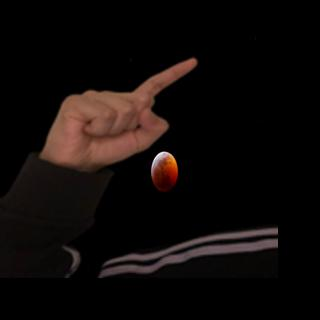WHY: (38, 47, 213, 171)
